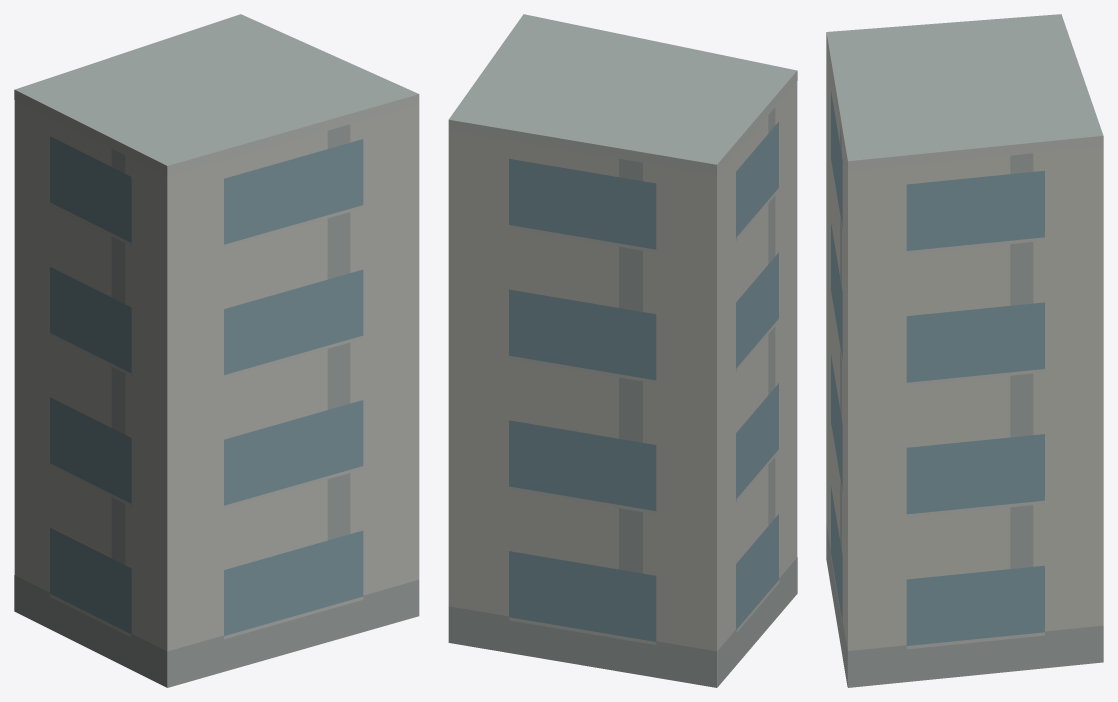
File: survey-upis-32466395.glb
3 views of the same model, side by side, from view 1: azimuth 30°, elevation 25°; view 2: azimuth 150°, elevation 25°; view 3: azimuth 270°, elevation 25° (orthographic).
Visible parts, largest first — view 1: survey-upis-32466395.tmp; view 2: survey-upis-32466395.tmp; view 3: survey-upis-32466395.tmp.
Boxes of the visible parts, x1=… form: survey-upis-32466395.tmp: x1=14, y1=14, x2=419, y2=687; survey-upis-32466395.tmp: x1=448, y1=14, x2=797, y2=687; survey-upis-32466395.tmp: x1=826, y1=14, x2=1103, y2=687.
Size of the model in its own units: 7.32 by 12.2 by 5.83.
